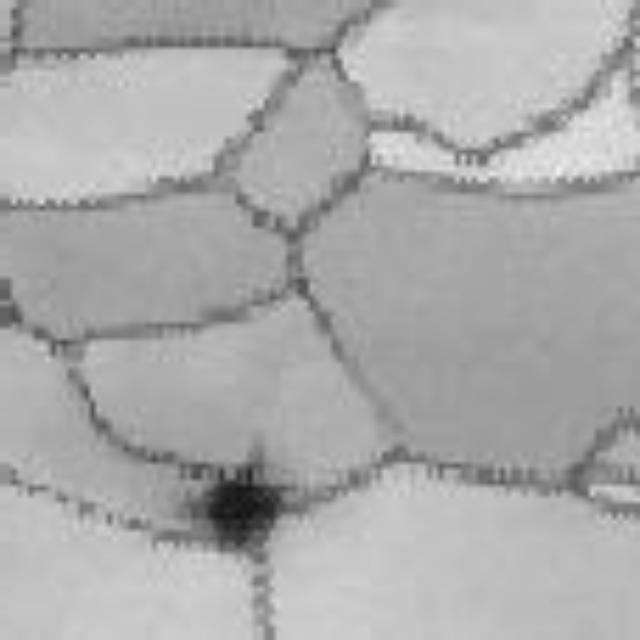good_void: (189, 427, 291, 557)
